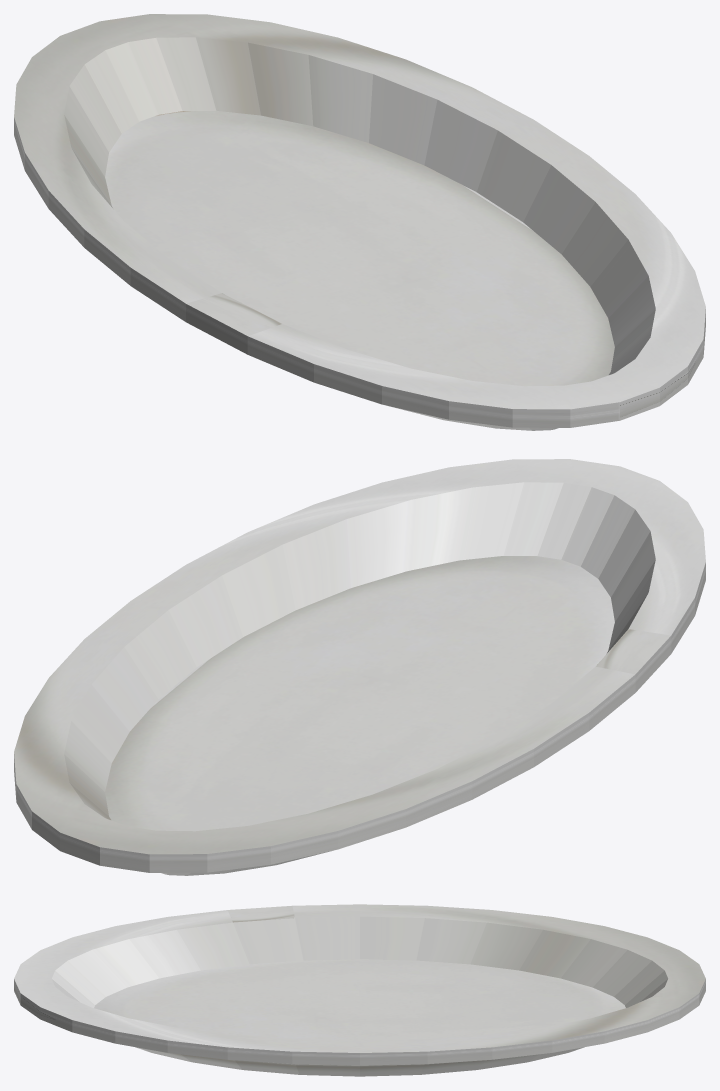
The model's file is EmptyDish.fbx.
3 views of the same model, one above another, from view 1: azimuth 30°, elevation 25°; view 2: azimuth 150°, elevation 25°; view 3: azimuth 270°, elevation 25° (orthographic). The views are drawn at different scales.
Visible parts, largest first — view 1: Plate.001; view 2: Plate.001; view 3: Plate.001.
Part boxes in pixels (left/top/right/bottom): Plate.001: left=14, top=14, right=705, bottom=430; Plate.001: left=14, top=459, right=705, bottom=875; Plate.001: left=14, top=904, right=705, bottom=1076.
Bounding box in the file's own units: 2.46 × 4.83 × 0.3881.
1 material, 1 textured.
